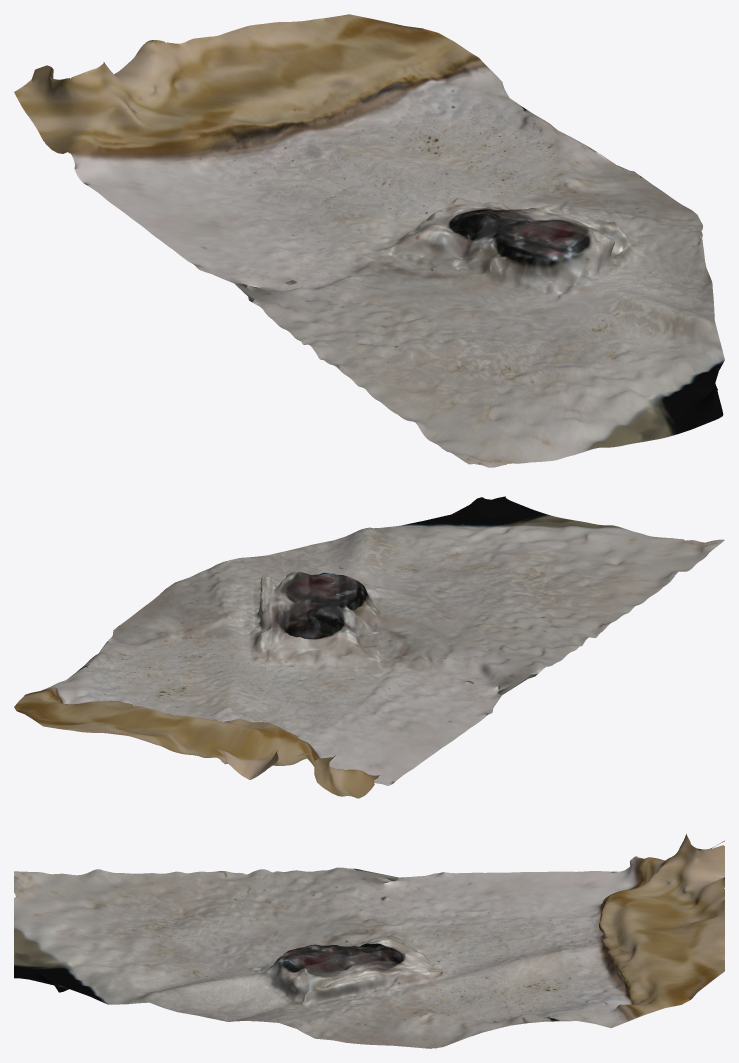
3 views of the same model, one above another, from view 1: azimuth 30°, elevation 25°; view 2: azimuth 150°, elevation 25°; view 3: azimuth 270°, elevation 25° (orthographic). The views are drawn at different scales.
Bounding box in the file's own units: 1.63 × 0.3029 × 2.93.
1 material, 1 textured.
